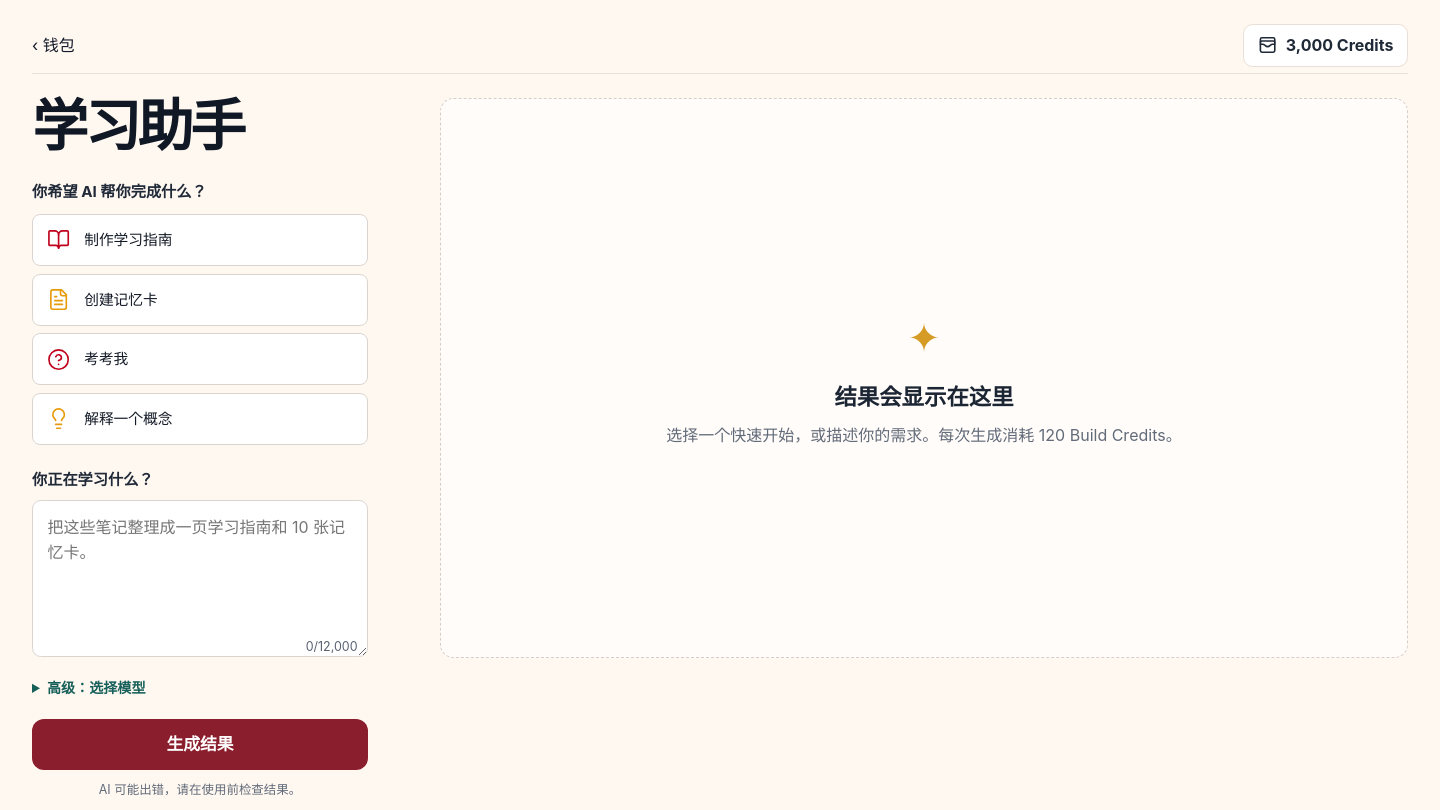
Test case: TaskShell › keeps a localized quick start visible and submits it in the selected language
The image size is (1440, 810).
Click the button "制作学习指南": (128, 240) [32,214,368,266]
(page scrolled)
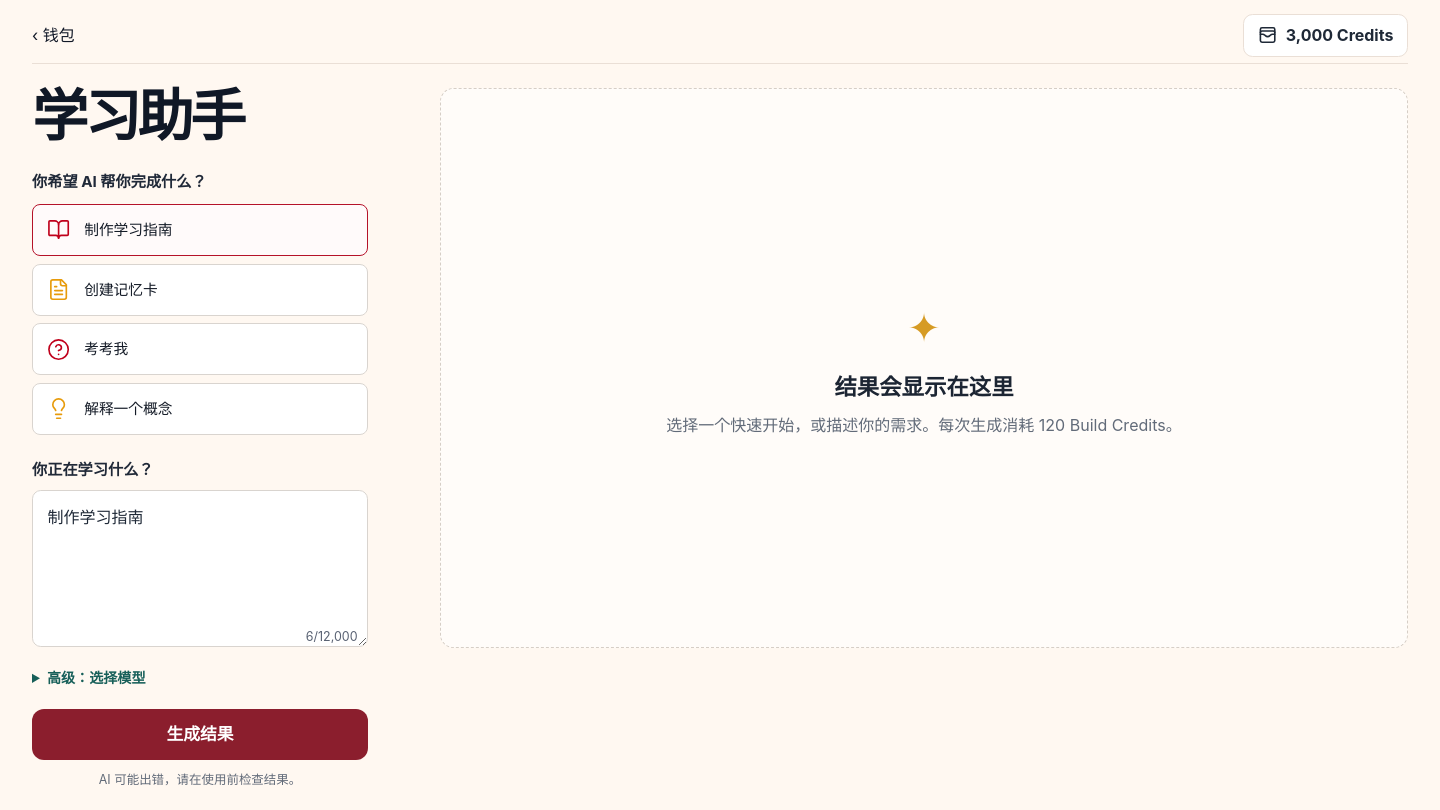
Result: the text box named "input" holds "制作学习指南" at [32,490,368,647]
Submit the form
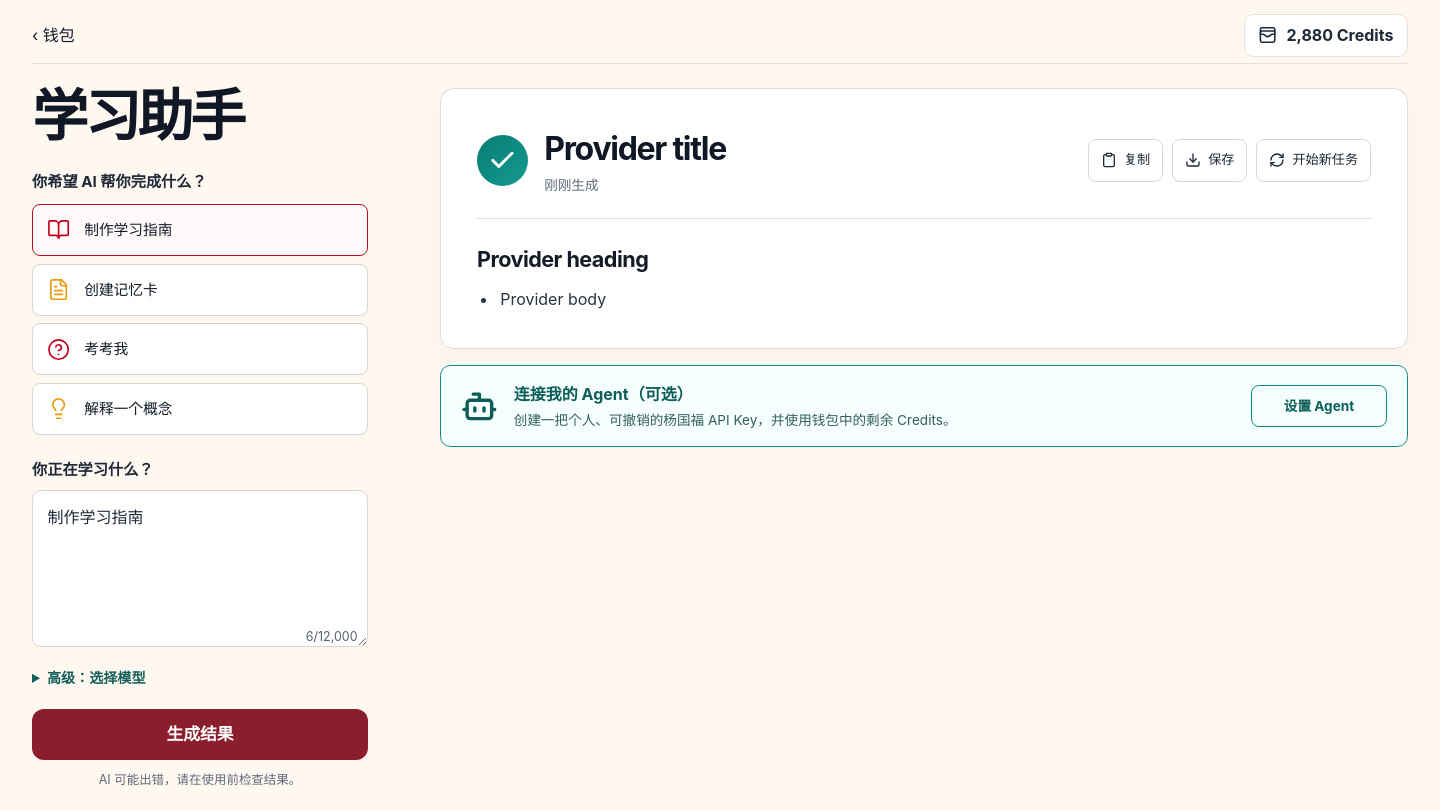
Result: the text "Provider title" is shown at [544,129,726,168]
Result: the text "Provider body" is shown at [500,289,606,309]
Result: the text "复制" is shown at [1088,139,1163,182]
